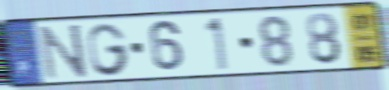1: (203, 16, 231, 72)
6: (147, 18, 186, 75)
8: (304, 11, 344, 68), (256, 14, 296, 69)
G: (85, 21, 132, 78)
N: (37, 22, 91, 82)
